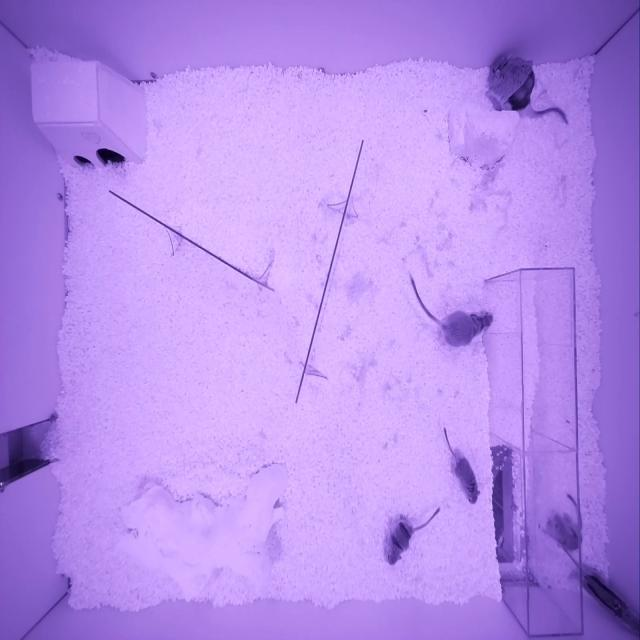adult_back: (486, 56, 535, 111)
adult_front: (441, 310, 493, 348)
pup_fluffy: (455, 457, 480, 504)
pup_h_stripe: (385, 522, 412, 565)
pup_spotted: (554, 514, 582, 550)
pup_v_stripe: (583, 574, 639, 636)
